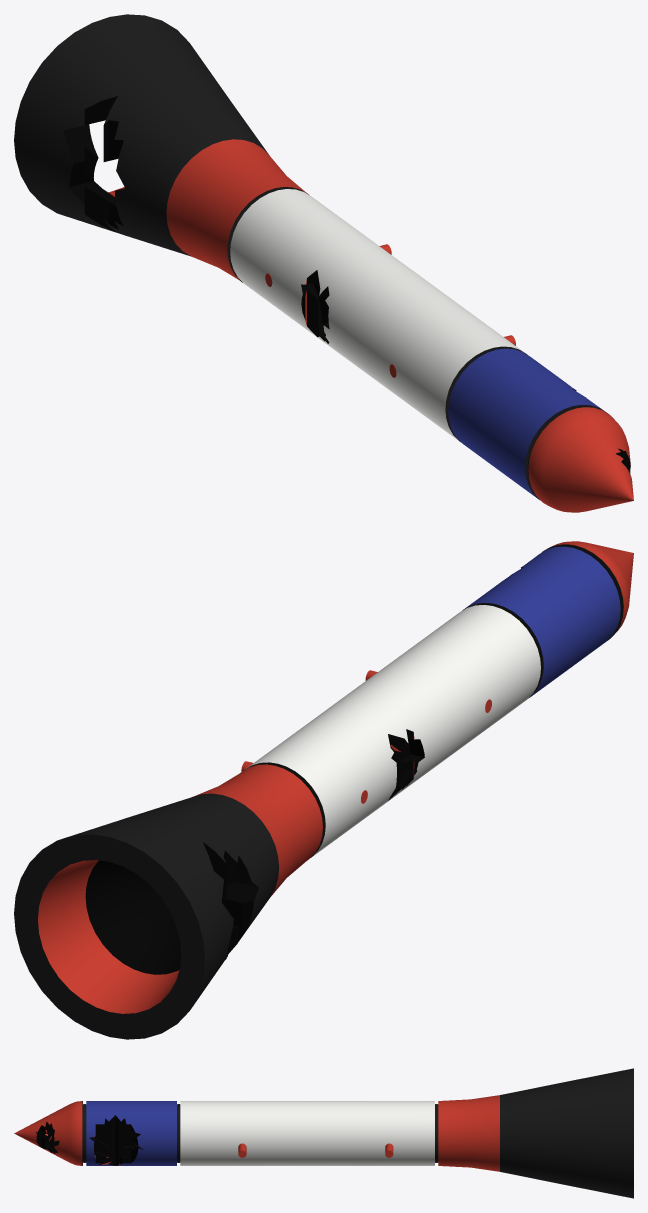
File: Rocket v1.fbx
The picture shows the model from 3 angles, top to bottom: view 1: azimuth 30°, elevation 25°; view 2: azimuth 150°, elevation 25°; view 3: azimuth 270°, elevation 25°; orthographic projection. The views are drawn at different scales.
Visible parts, largest first — view 1: Body1; view 2: Body1; view 3: Body1.
Boxes of the visible parts, x1,y1,x2,y2 form: Body1: [14, 14, 633, 512]; Body1: [14, 541, 633, 1039]; Body1: [14, 1068, 633, 1198].
Bounding box in the file's own units: 400 × 400 × 1900.
